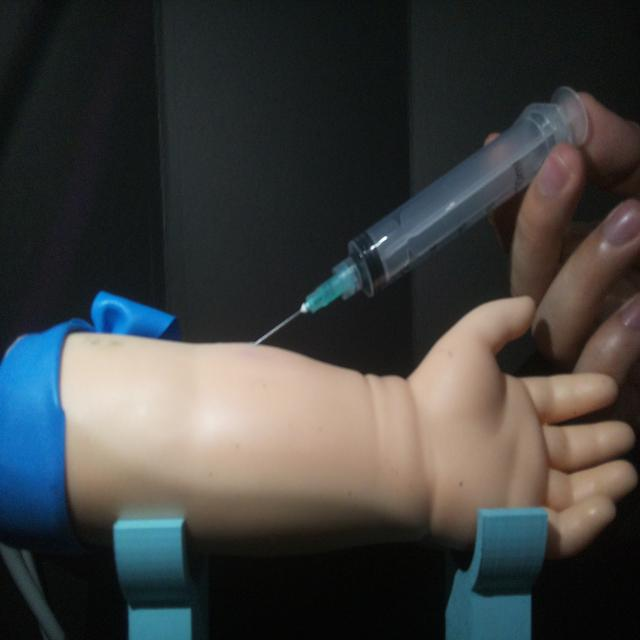27deg: (248, 81, 592, 349)
